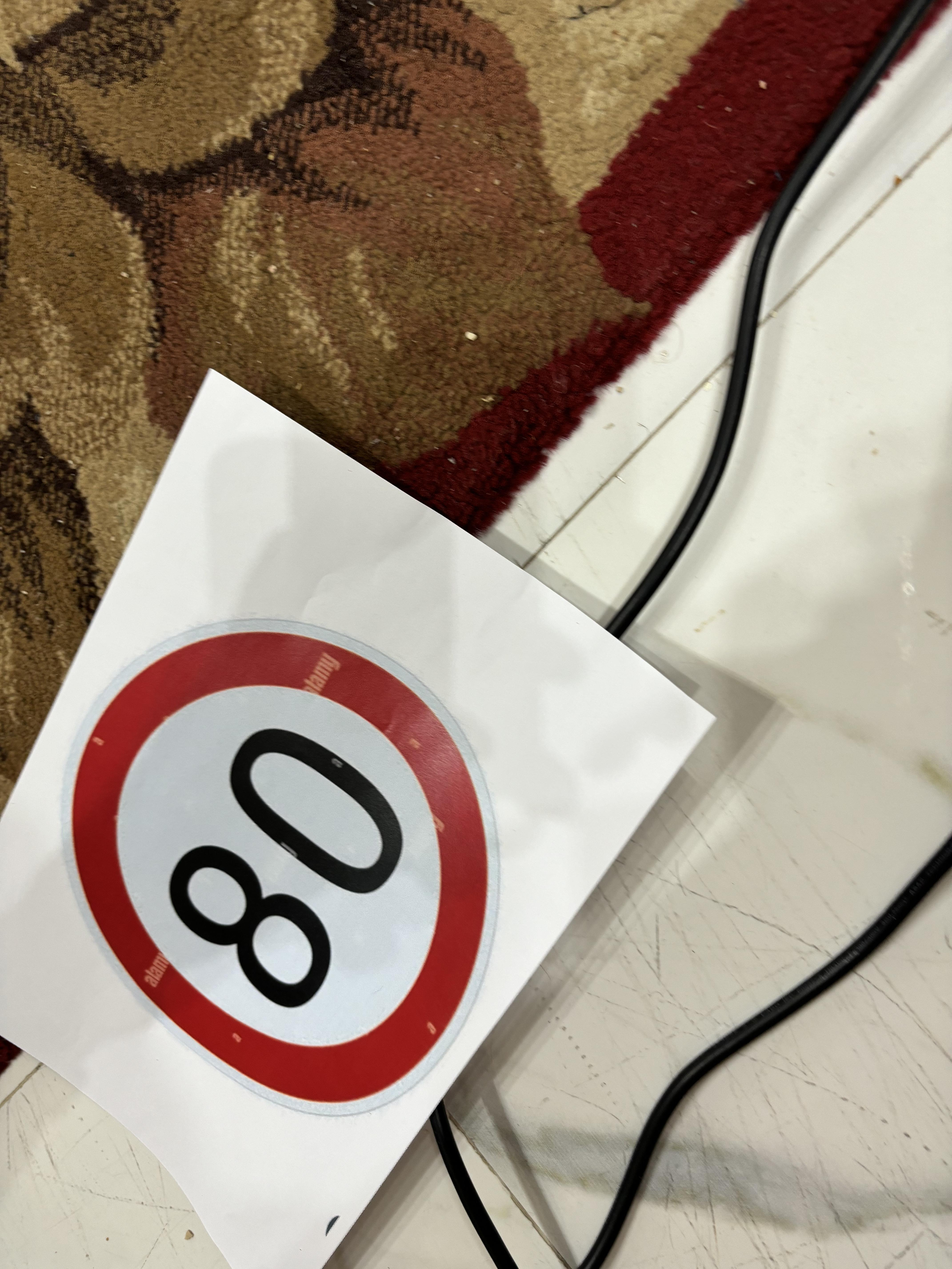80-Speed: (56, 627, 498, 1114)
